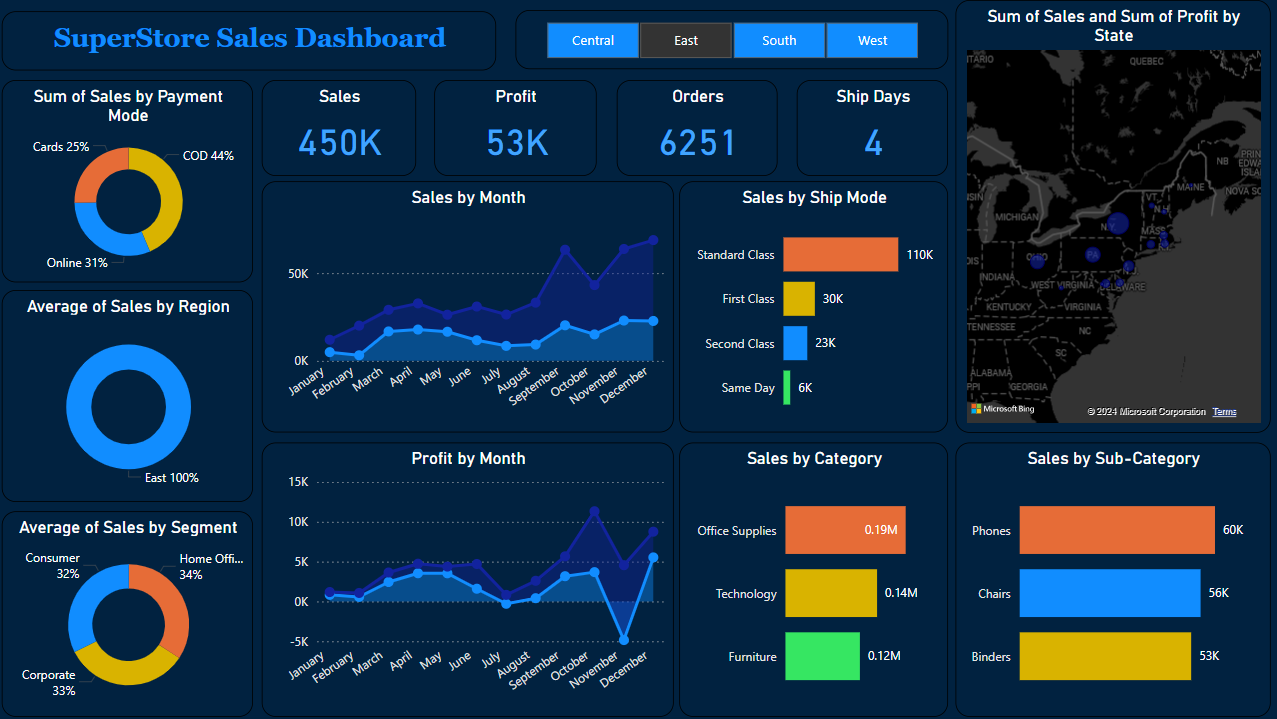

Layout of this report page (visuals, bound fields, positions):
{"tool":"powerbi","page":{"name":"Dashboard","canvas":[1280,720],"ordinal":0},"visuals":[{"type":"clusteredBarChart","title":"Sales by Category","fields":{"Category":["SuperStore_Sales_Dataset.Category"],"Y":["Sum(SuperStore_Sales_Dataset.Sales)"]},"box":[681.1,441.9,268.9,274.3],"z":0},{"type":"clusteredBarChart","title":"Sales by Sub-Category","fields":{"Category":["SuperStore_Sales_Dataset.Sub-Category"],"Y":["Sum(SuperStore_Sales_Dataset.Sales)"]},"box":[958.1,441.9,314.9,274.3],"z":1000},{"type":"clusteredBarChart","title":"Sales by Ship Mode","fields":{"Category":["SuperStore_Sales_Dataset.Ship Mode"],"Y":["Sum(SuperStore_Sales_Dataset.Sales)"]},"box":[681.1,181.1,268.9,251.4],"z":2000},{"type":"stackedAreaChart","title":"Sales by Month","fields":{"Y":["Sum(SuperStore_Sales_Dataset.Sales)"],"Category":["SuperStore_Sales_Dataset.Order Date.Variation.Date Hierarchy.Month","SuperStore_Sales_Dataset.Order Date.Variation.Date Hierarchy.Day"],"Series":["SuperStore_Sales_Dataset.Order Date.Variation.Date Hierarchy.Year"]},"box":[263.5,181.1,412.2,251.4],"z":3000},{"type":"stackedAreaChart","title":"Profit by Month","fields":{"Category":["SuperStore_Sales_Dataset.Order Date.Variation.Date Hierarchy.Month","SuperStore_Sales_Dataset.Order Date.Variation.Date Hierarchy.Day"],"Series":["SuperStore_Sales_Dataset.Order Date.Variation.Date Hierarchy.Year"],"Y":["Sum(SuperStore_Sales_Dataset.Profit)"]},"box":[263.5,441.9,412.2,274.3],"z":4000},{"type":"map","fields":{"Category":["SuperStore_Sales_Dataset.State"],"Size":["Sum(SuperStore_Sales_Dataset.Sales)"]},"box":[958.1,0,314.9,432.4],"z":5000},{"type":"textbox","box":[4.1,10.8,494.6,59.5],"z":6000},{"type":"donutChart","fields":{"Category":["SuperStore_Sales_Dataset.Segment"],"Y":["Avg(SuperStore_Sales_Dataset.Sales)"]},"box":[4.1,510.8,251.4,205.4],"z":7000},{"type":"donutChart","fields":{"Category":["SuperStore_Sales_Dataset.Payment Mode"],"Y":["Sum(SuperStore_Sales_Dataset.Sales)"]},"box":[4.1,79.7,251.4,202.7],"z":8000},{"type":"donutChart","fields":{"Y":["Avg(SuperStore_Sales_Dataset.Sales)"],"Category":["SuperStore_Sales_Dataset.Region"]},"box":[4.1,290.5,251.4,212.2],"z":9000},{"type":"card","title":"Sales","fields":{"Values":["Sum(SuperStore_Sales_Dataset.Sales)"]},"box":[263.5,79.7,154.1,95.9],"z":10000},{"type":"card","title":"Profit","fields":{"Values":["Sum(SuperStore_Sales_Dataset.Profit)"]},"box":[436.5,79.7,162.2,95.9],"z":11000},{"type":"card","title":"Orders","fields":{"Values":["Sum(SuperStore_Sales_Dataset.Quantity)"]},"box":[618.9,79.7,160.8,95.9],"z":12000},{"type":"card","title":"Ship Days","fields":{"Values":["Avg(SuperStore_Sales_Dataset.AvgDelivery)"]},"box":[798.6,79.7,151.4,95.9],"z":13000},{"type":"slicer","fields":{"Values":["SuperStore_Sales_Dataset.Region"]},"box":[517.4,10.5,432.6,59.3],"z":14000}]}

Visuals, with their boxes in screenshot pixels (x1, y1, x2, y2), scaled from the page's 1280x720 canvas onto the 1277x719 screenshot:
"Sales by Category" clusteredBarChart: box(680, 441, 948, 715)
"Sales by Sub-Category" clusteredBarChart: box(956, 441, 1270, 715)
"Sales by Ship Mode" clusteredBarChart: box(680, 181, 948, 432)
"Sales by Month" stackedAreaChart: box(263, 181, 674, 432)
"Profit by Month" stackedAreaChart: box(263, 441, 674, 715)
map - SuperStore_Sales_Dataset.State x Sum(SuperStore_Sales_Dataset.Sales): box(956, 0, 1270, 432)
textbox: box(4, 11, 498, 70)
donutChart - SuperStore_Sales_Dataset.Segment x Avg(SuperStore_Sales_Dataset.Sales): box(4, 510, 255, 715)
donutChart - SuperStore_Sales_Dataset.Payment Mode x Sum(SuperStore_Sales_Dataset.Sales): box(4, 80, 255, 282)
donutChart - Avg(SuperStore_Sales_Dataset.Sales) x SuperStore_Sales_Dataset.Region: box(4, 290, 255, 502)
"Sales" card: box(263, 80, 417, 175)
"Profit" card: box(435, 80, 597, 175)
"Orders" card: box(617, 80, 778, 175)
"Ship Days" card: box(797, 80, 948, 175)
slicer - SuperStore_Sales_Dataset.Region: box(516, 10, 948, 70)
